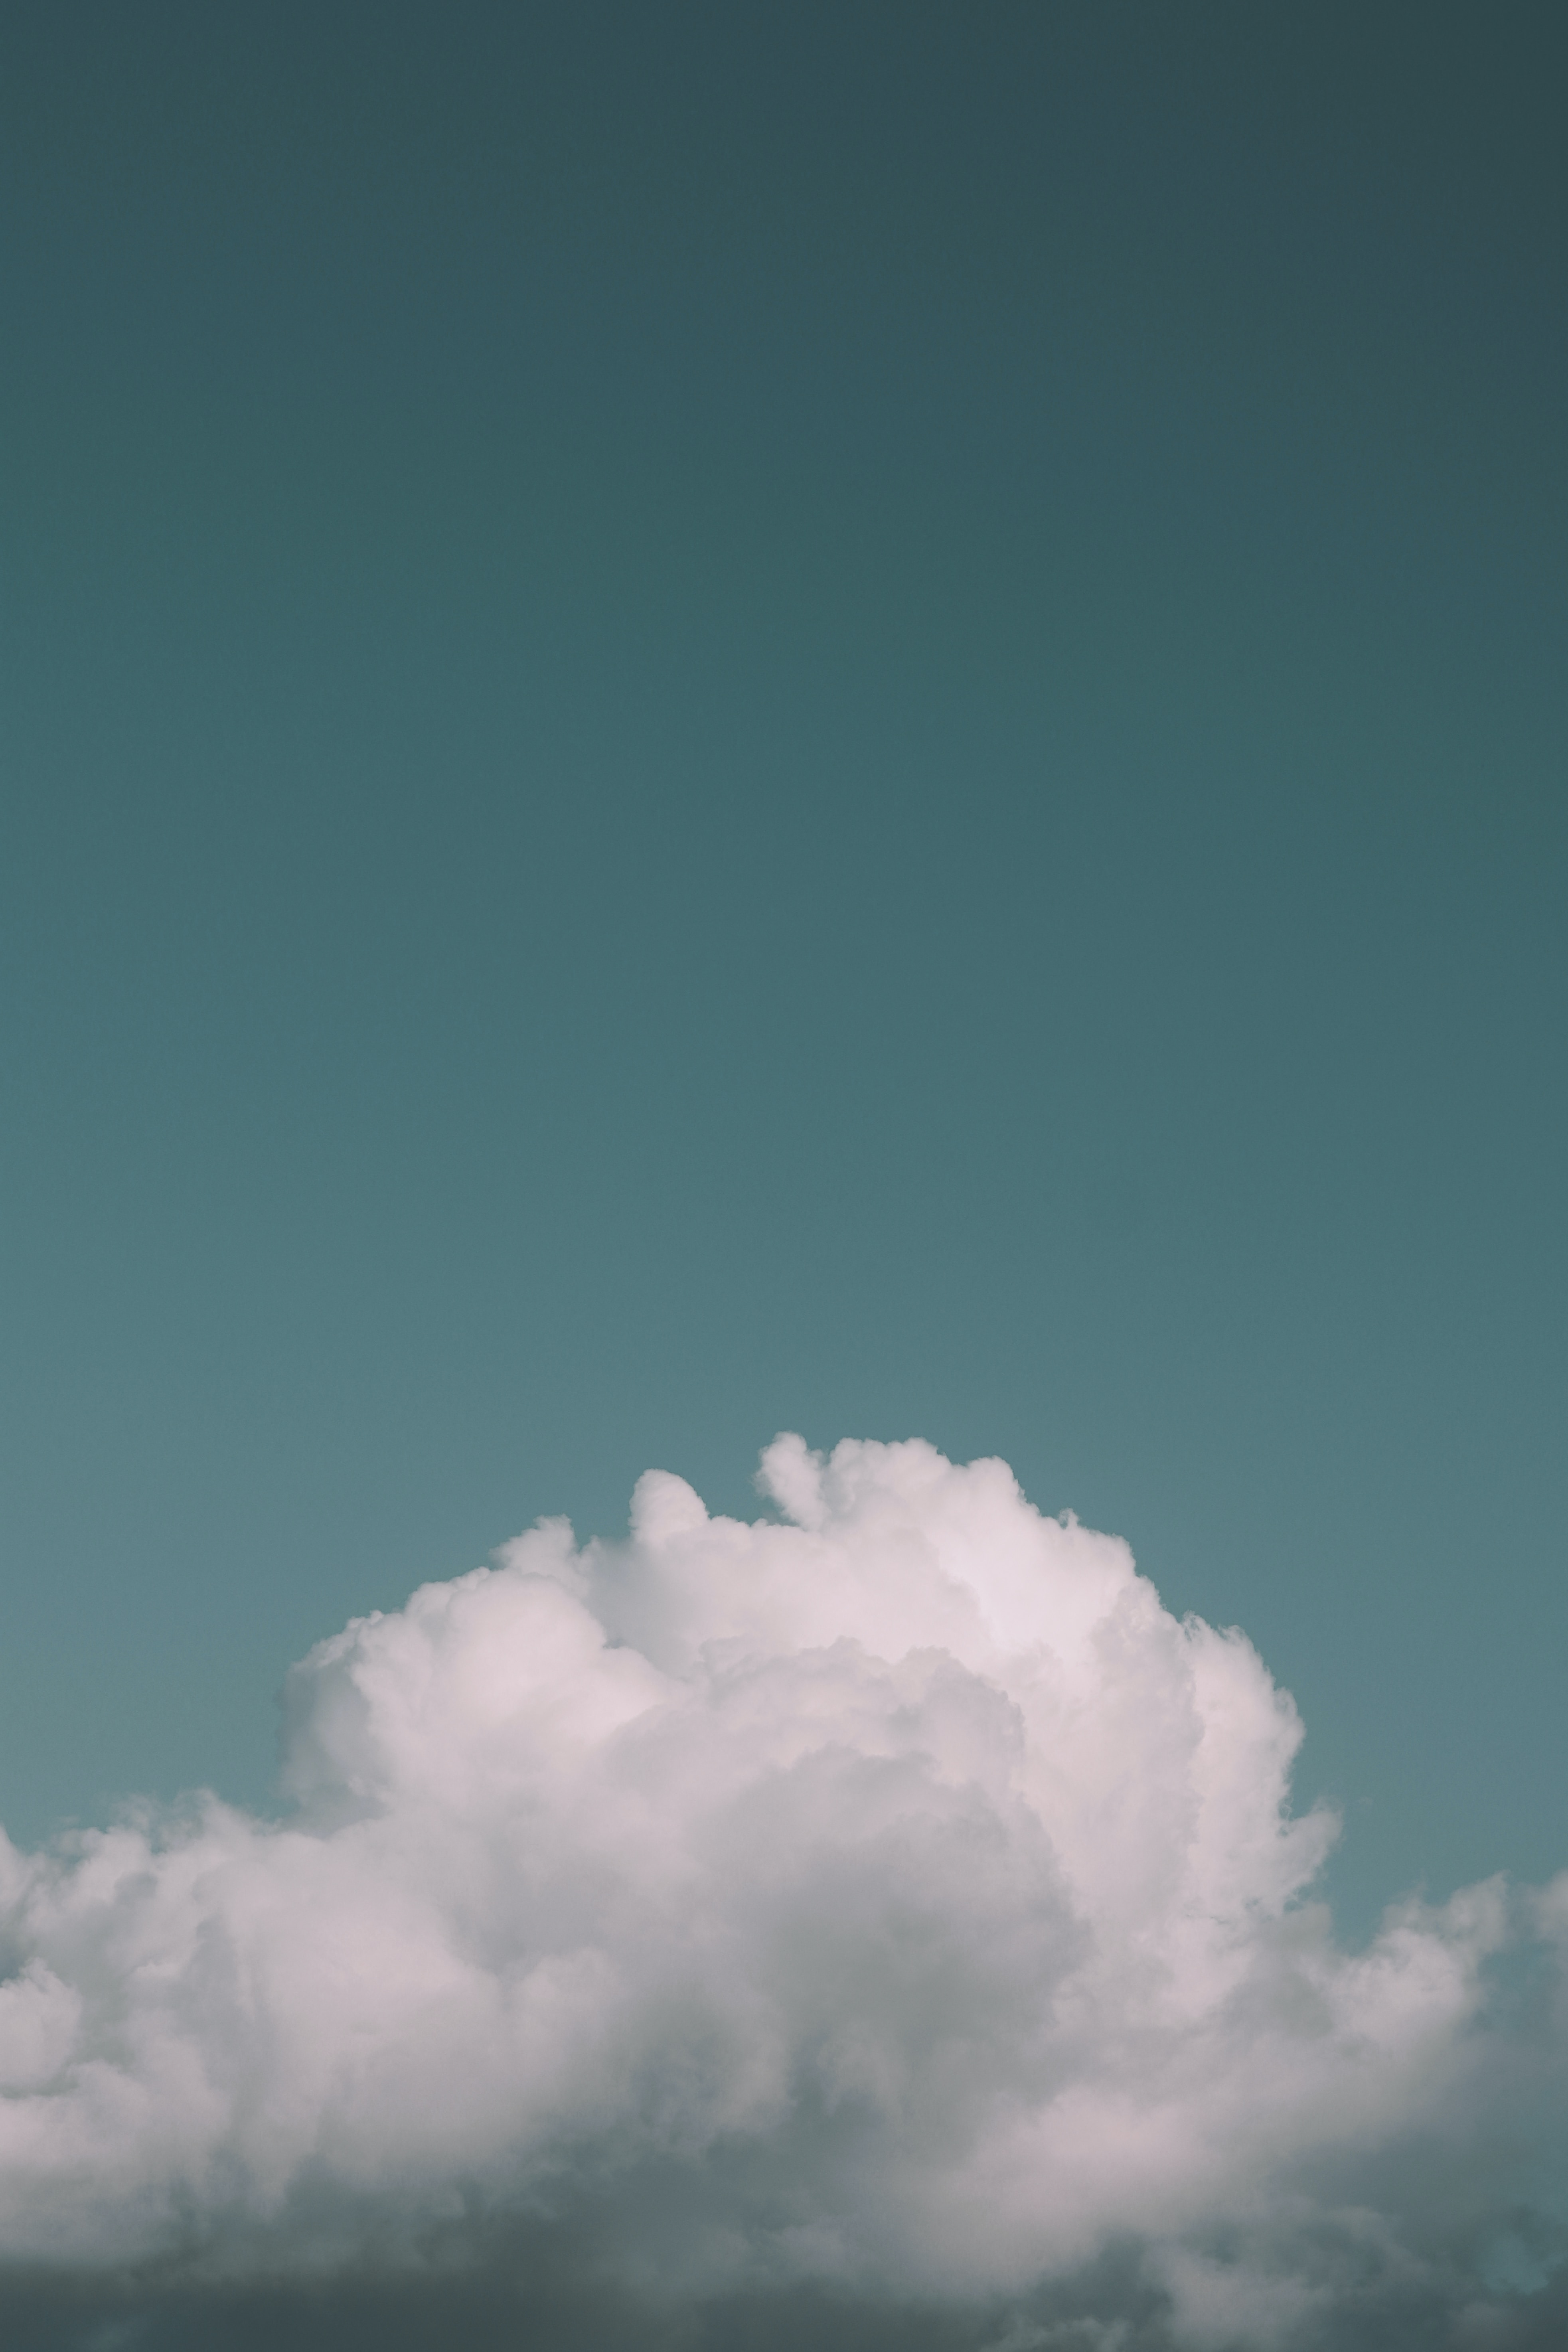Cumulus: (23, 1284, 1559, 2348)
